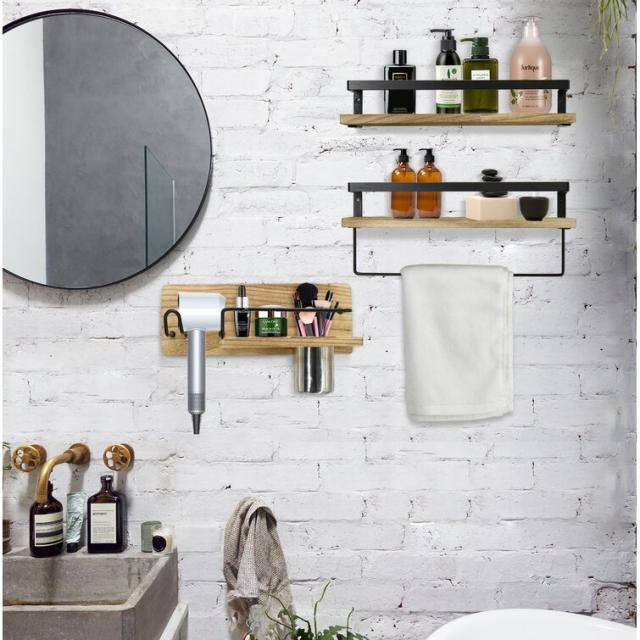dryer: (161, 283, 236, 442)
